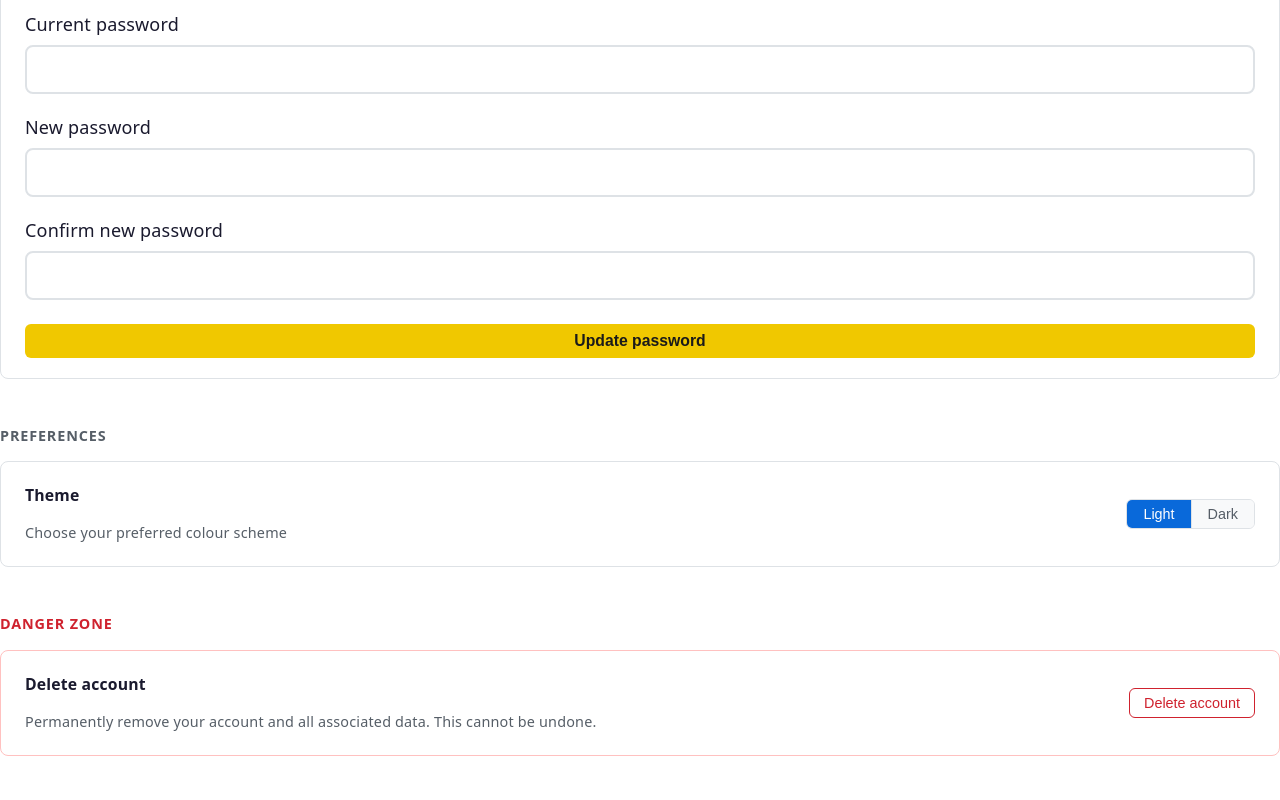
Test: SettingsPage › closes delete account modal when cancel is clicked
(page scrolled)
What coordinates should you click on to do the following:
click the button "Delete account"
I would click on:
 (1192, 703)
Its box is [1129,688,1255,718].
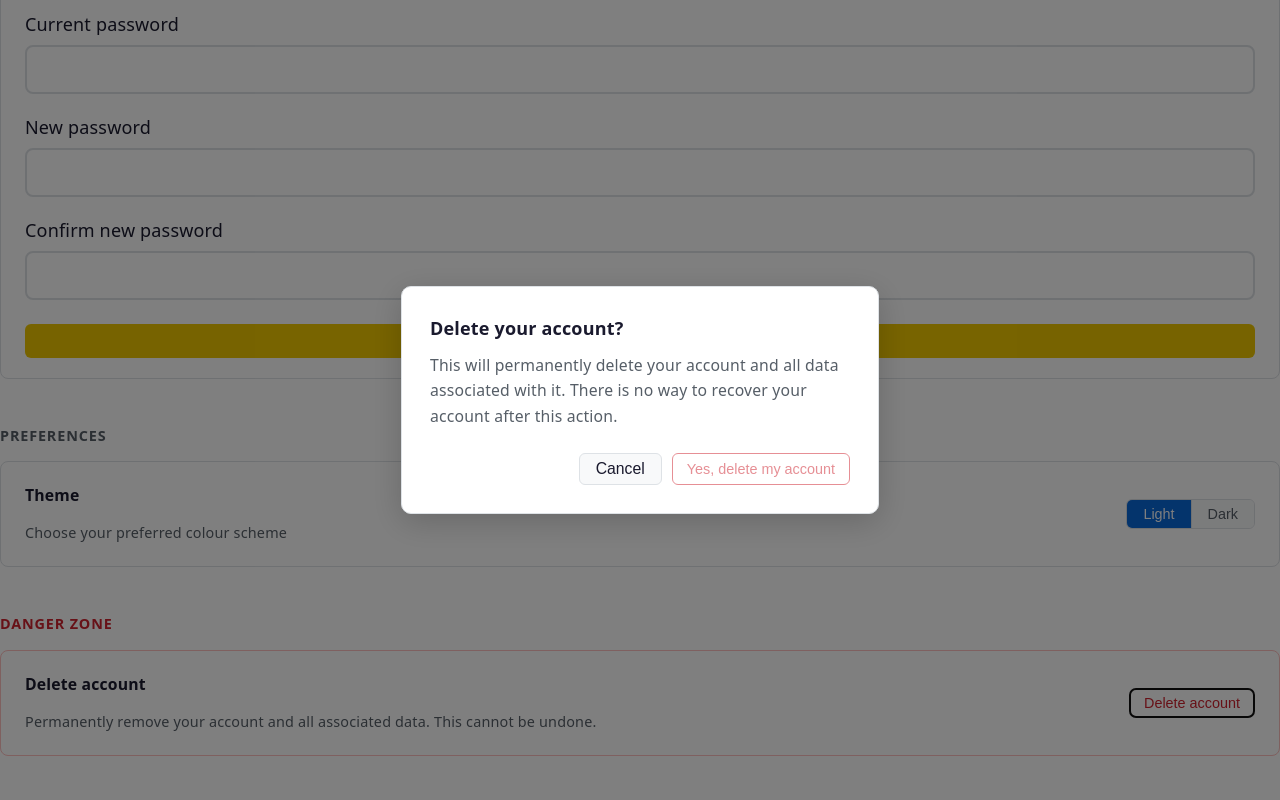
What coordinates should you click on to do the following:
click the button "Cancel"
I would click on:
 (620, 469)
Its box is [579,453,662,485].
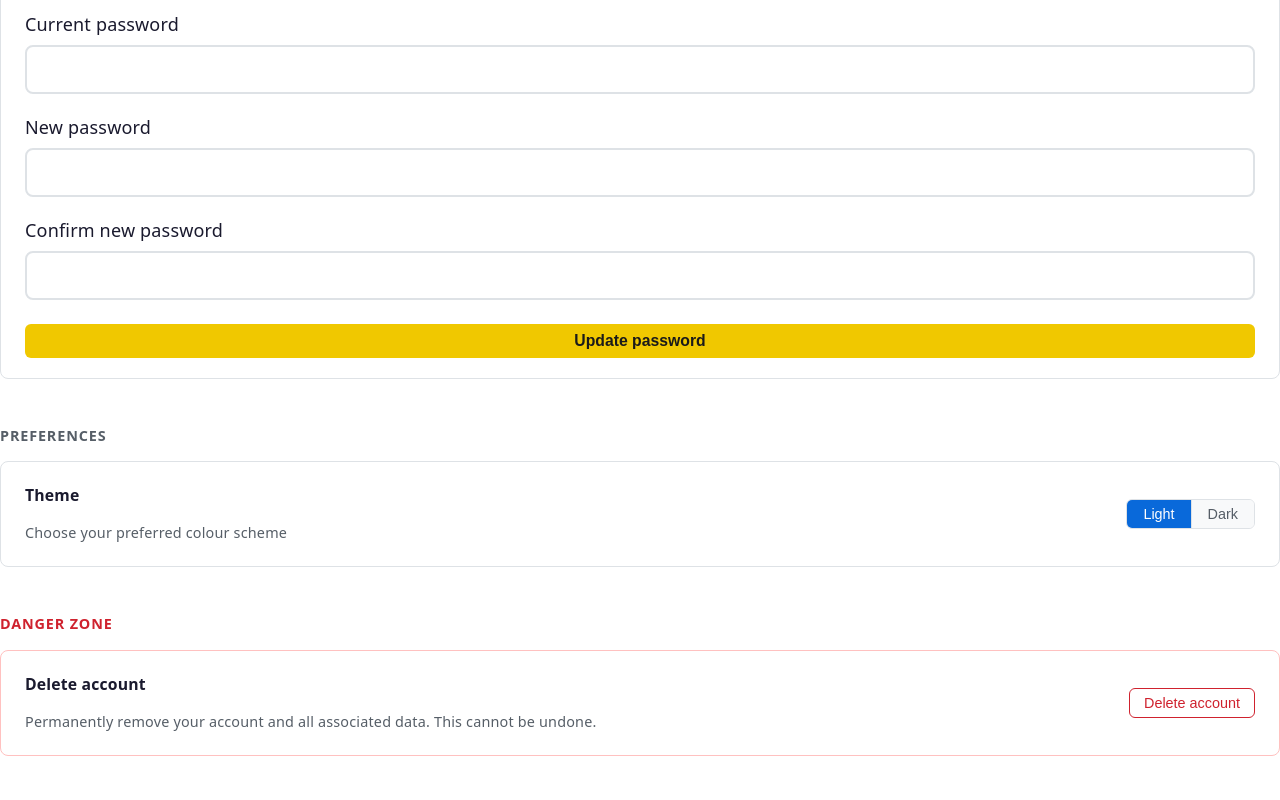
Check: the heading "Delete your account?" is gone
